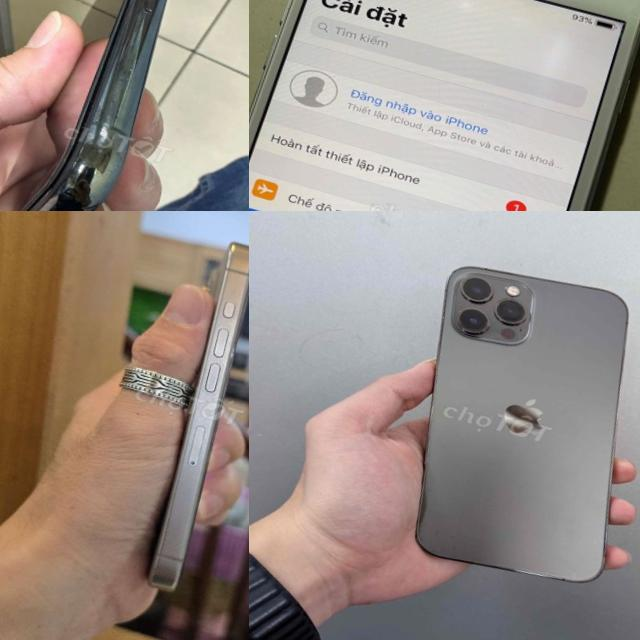gen_11: (0, 0, 222, 211)
gen_12_13: (416, 266, 627, 581)
gen_15: (126, 231, 249, 603)
gen_6: (249, 0, 640, 211)
